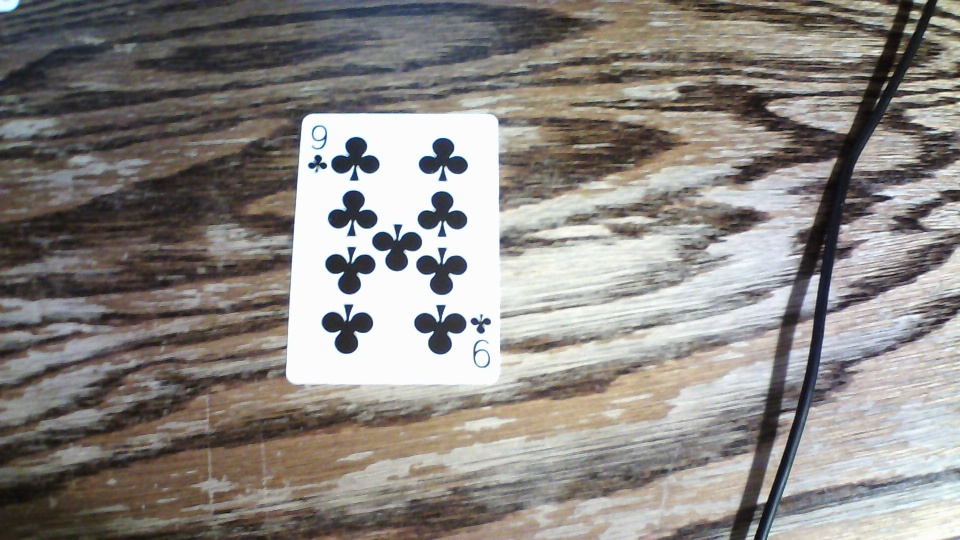nine: (281, 112, 504, 386)
